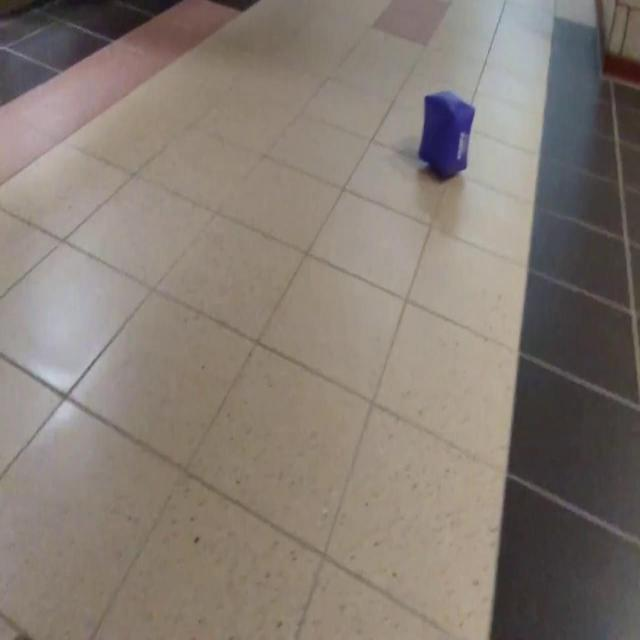frc_cube: (418, 90, 474, 178)
